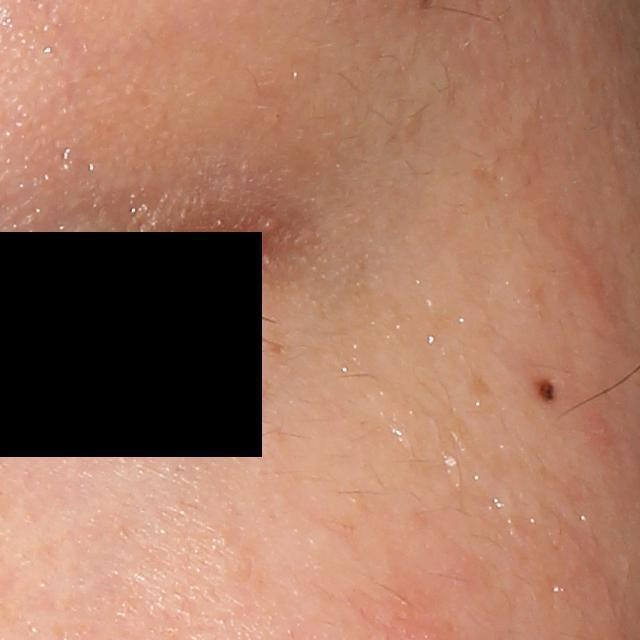nevus: (534, 377, 557, 405)
